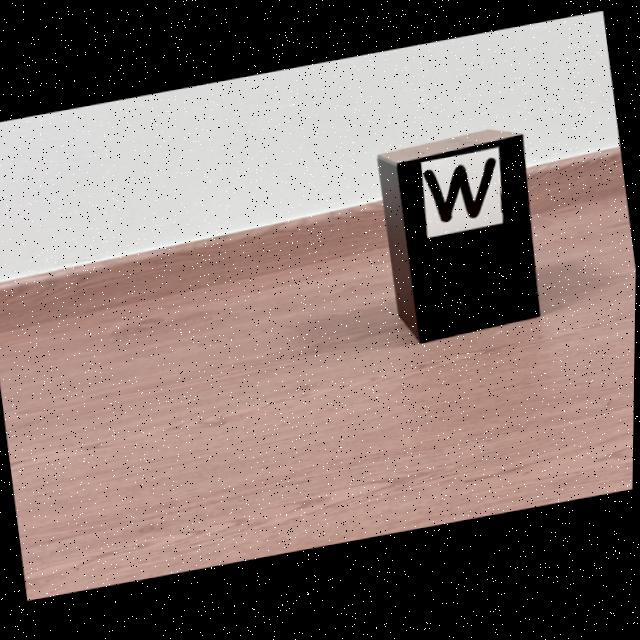W: (424, 162, 498, 227)
